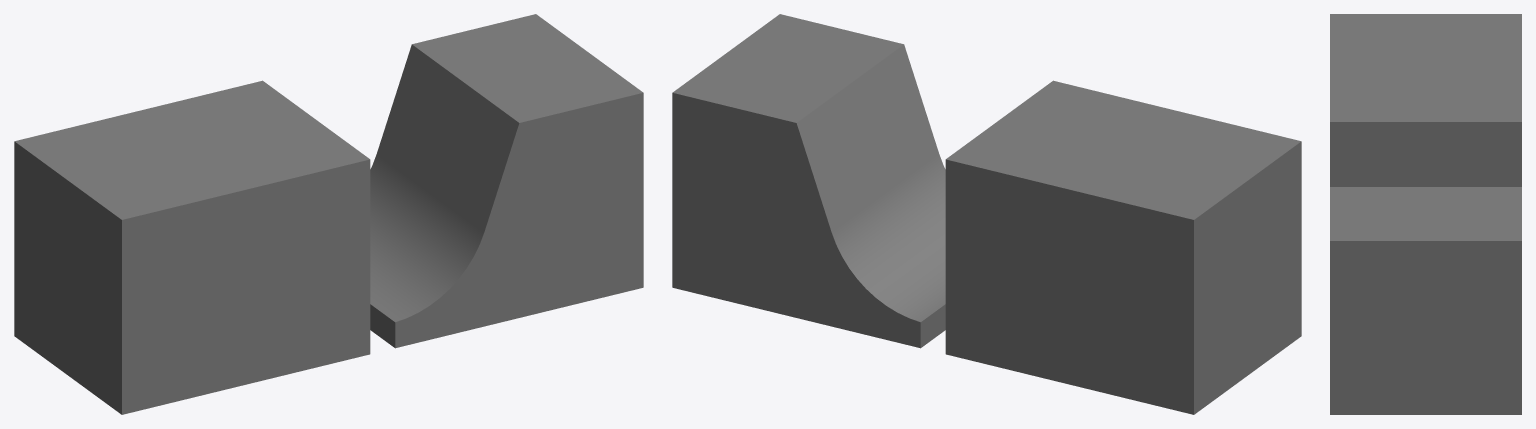
Rendered from С13_Кромки.glb.
3 renders of one model, left to right at view 1: azimuth 30°, elevation 25°; view 2: azimuth 150°, elevation 25°; view 3: azimuth 270°, elevation 25°, orthographic. The views are drawn at different scales.
Parts seen in each view (by area): view 1: node_id3; view 2: node_id3; view 3: node_id3.
Part boxes in pixels (x1,y1,x2,y2): node_id3: (14, 14, 643, 414); node_id3: (672, 14, 1301, 414); node_id3: (1330, 14, 1521, 414).
Bounding box in the file's own units: 0.512 × 0.1829 × 0.1829.
1 material, 1 textured.
